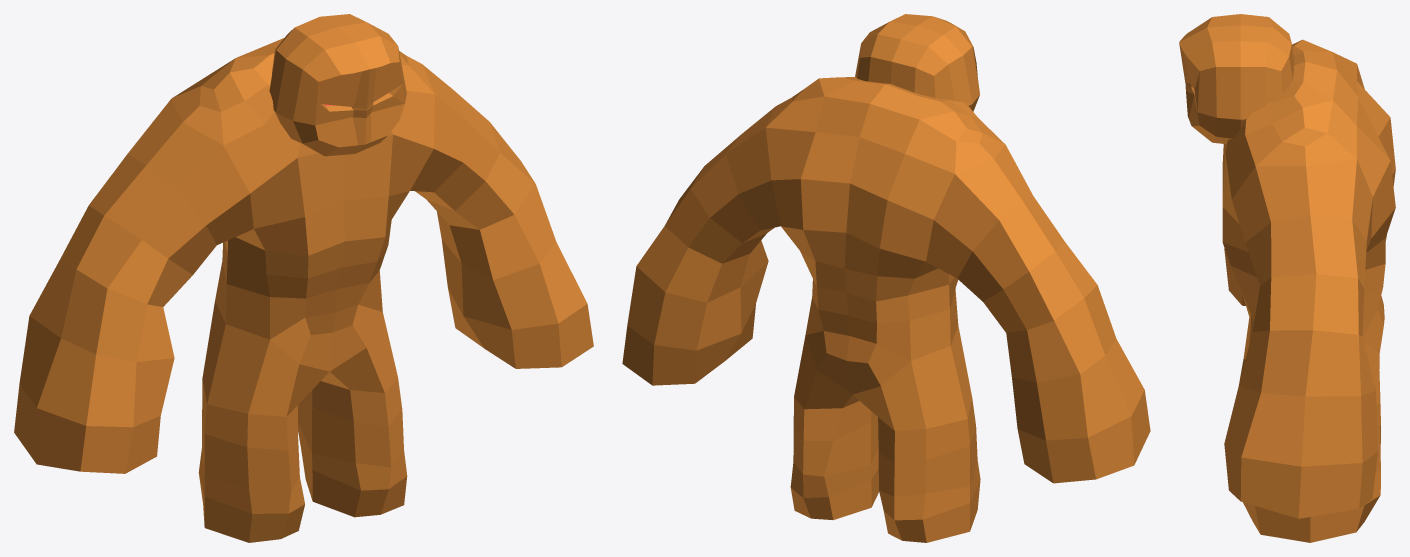
File: character.glb
The picture shows the model from 3 angles, left to right: view 1: azimuth 30°, elevation 25°; view 2: azimuth 150°, elevation 25°; view 3: azimuth 270°, elevation 25°; orthographic projection. The views are drawn at different scales.
Parts seen in each view (by area): view 1: Body, Head; view 2: Body, Head; view 3: Body, Head.
Part boxes in pixels (x1=…): Body: x1=14, y1=38, x2=593, y2=542; Head: x1=269, y1=14, x2=406, y2=156; Body: x1=622, y1=76, x2=1150, y2=542; Head: x1=855, y1=14, x2=979, y2=111; Body: x1=1222, y1=39, x2=1395, y2=542; Head: x1=1179, y1=14, x2=1294, y2=144.
Bounding box in the file's own units: 2.16 × 1.93 × 0.7995.
